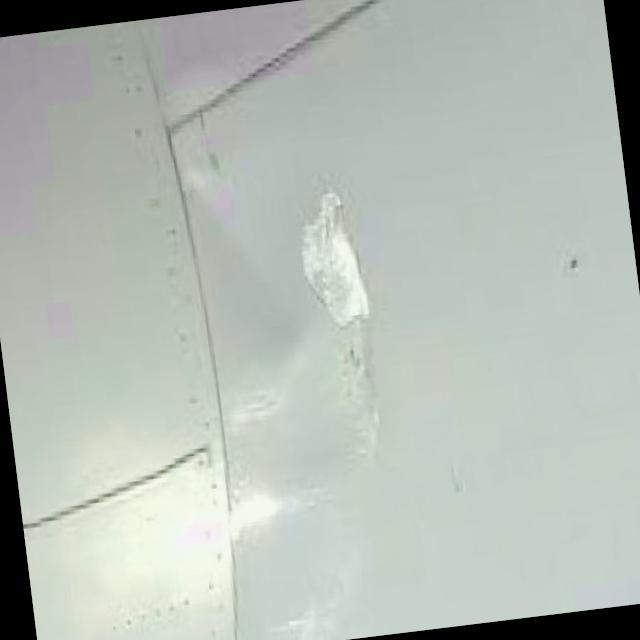dent: (290, 184, 392, 498)
